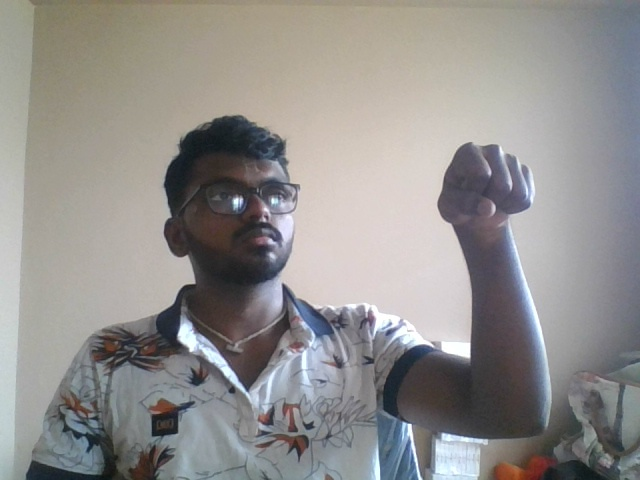Yes: (420, 127, 575, 299)
